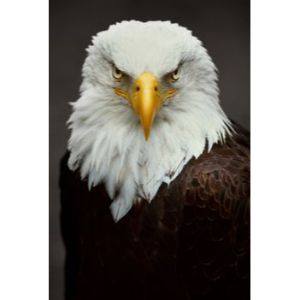eagle: (59, 18, 247, 298)
